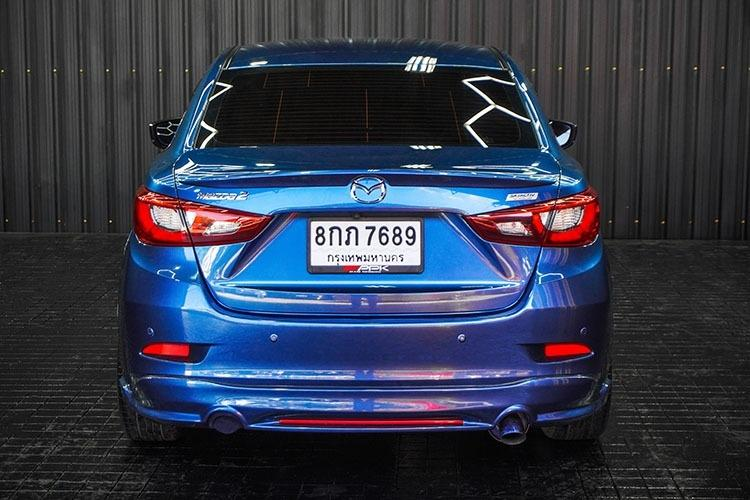license-plate: (304, 206, 427, 283)
